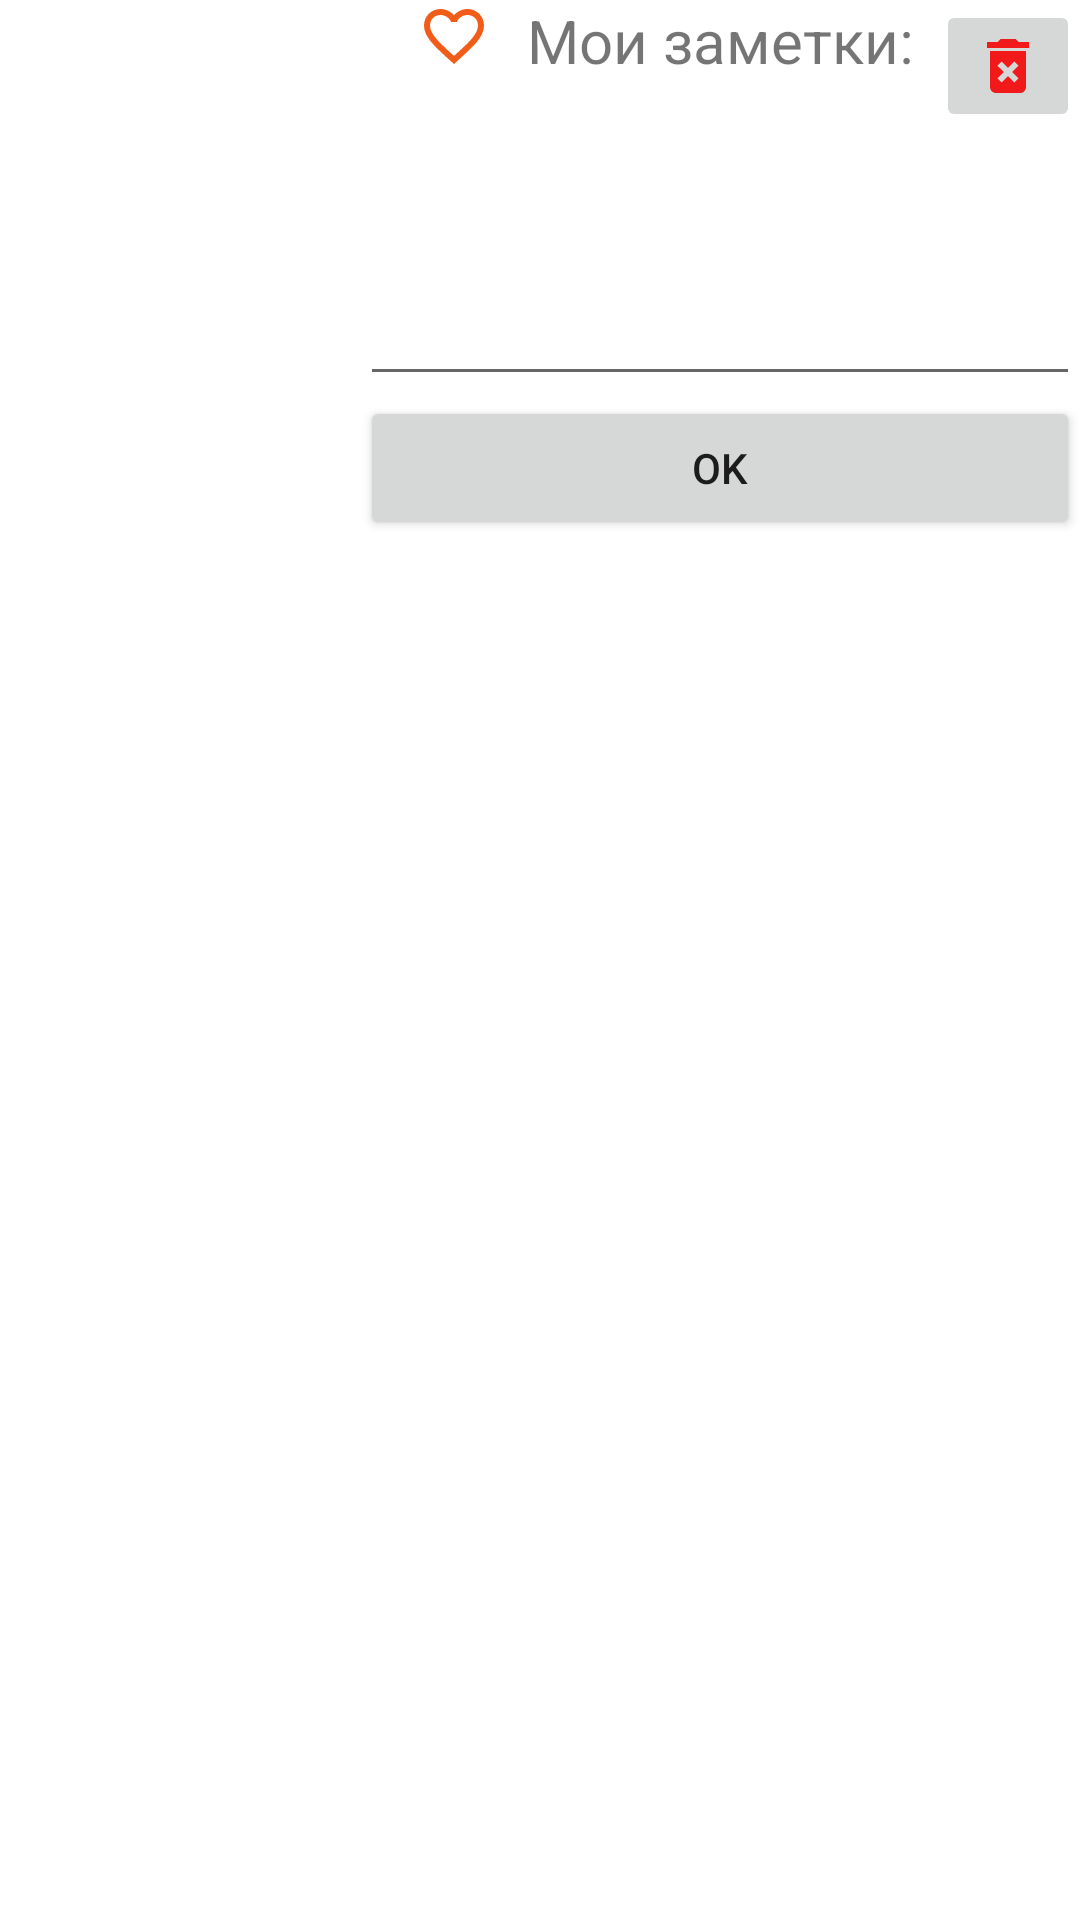

Screen size 1080w x 1920h. Icon name, then its center in pixels as (x=x, y=y):
Избранные: (x=454, y=36)
